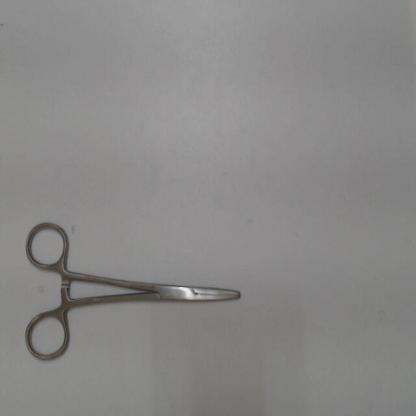Mayo Needle Holder: (18, 210, 254, 367)
